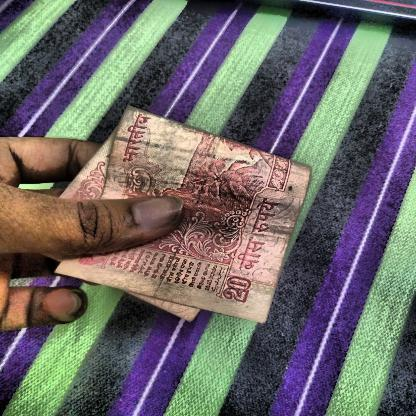Rs20: (215, 271, 260, 308)
